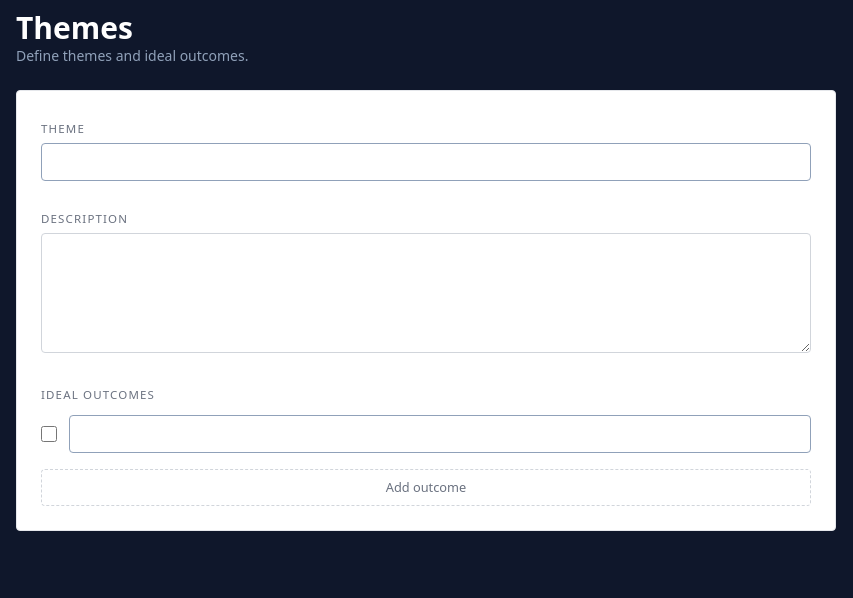
it: Themes › adds new outcome when Add outcome is clicked
Click the button with aria-label "Add new ideal outcome" at (426, 488), box [41, 469, 811, 506]
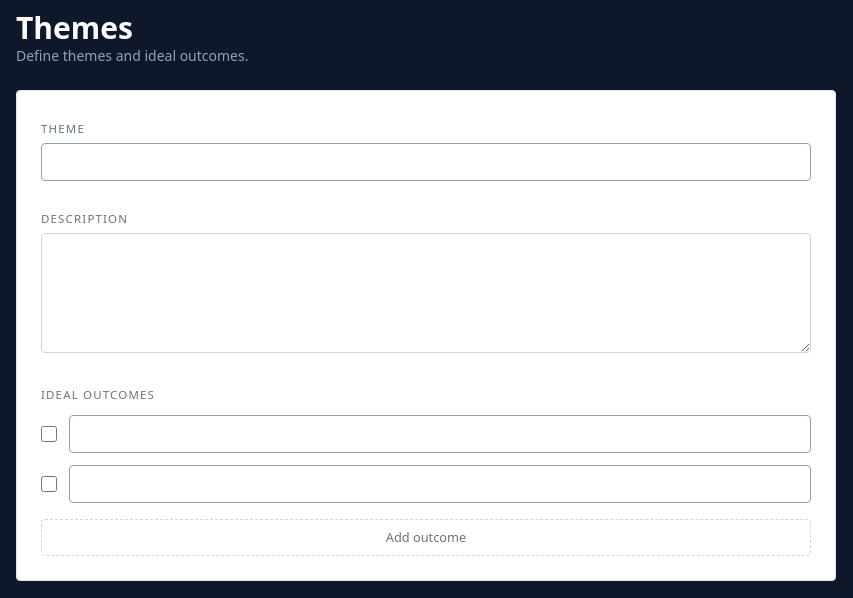
Expected: the number of checkboxes is 2, [41, 426, 57, 442]; [41, 476, 57, 492]
